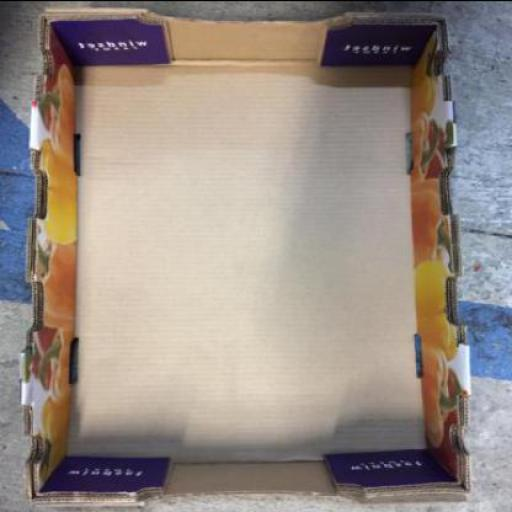cardboard: (18, 4, 474, 502)
